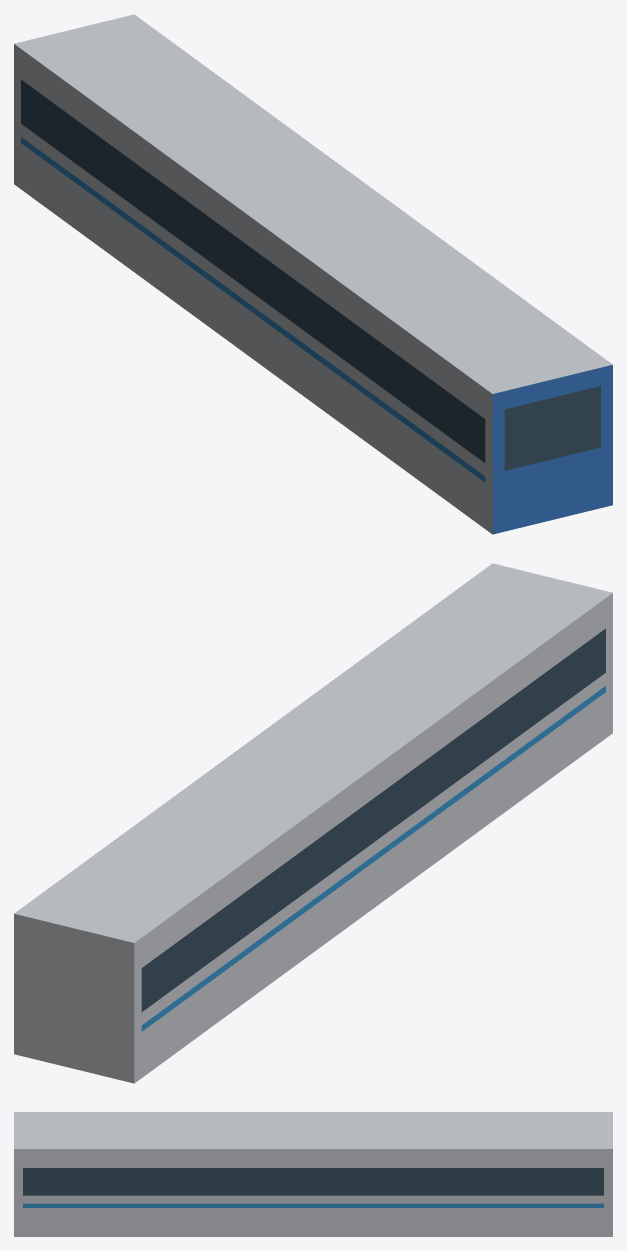
File: 0_far.fbx
The picture shows the model from 3 angles, top to bottom: view 1: azimuth 30°, elevation 25°; view 2: azimuth 150°, elevation 25°; view 3: azimuth 270°, elevation 25°; orthographic projection. The views are drawn at different scales.
Visible parts, largest first — view 1: 20_0_far; view 2: 20_0_far; view 3: 20_0_far.
Part boxes in pixels (x1,y1,x2,y2): 20_0_far: [14, 14, 612, 534]; 20_0_far: [14, 563, 612, 1083]; 20_0_far: [14, 1112, 612, 1236].
Bounding box in the file's own units: 2.91 × 3.24 × 20.
